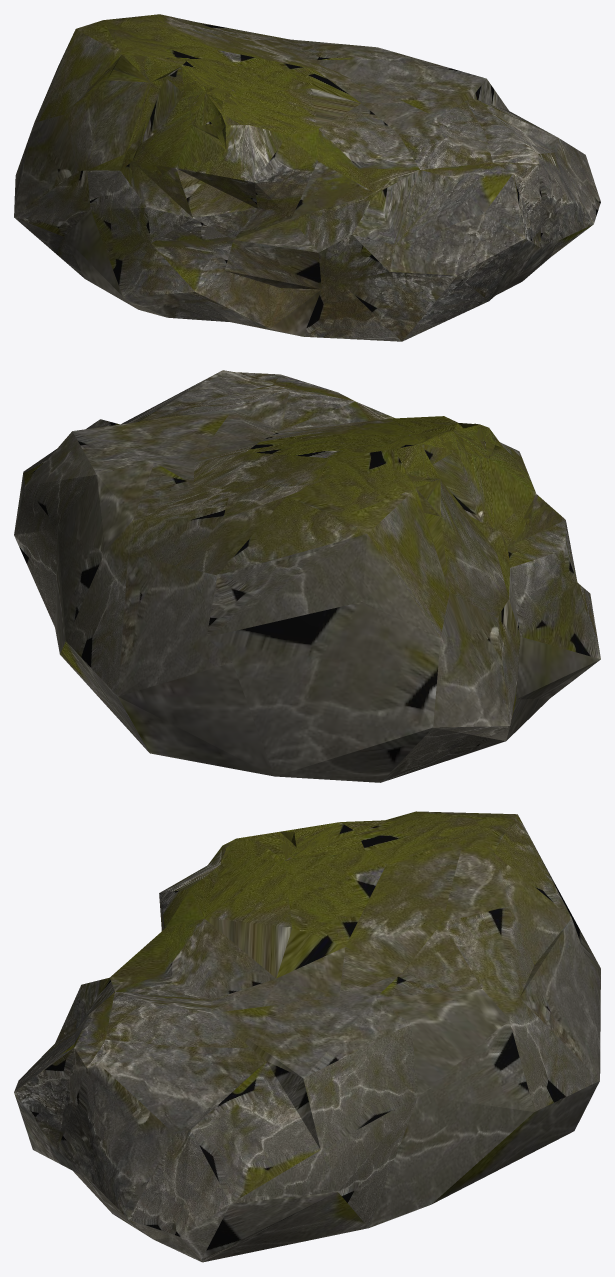
Rendered from fo_moss_boulder_lod1.glb.
3 views of the same model, one above another, from view 1: azimuth 30°, elevation 25°; view 2: azimuth 150°, elevation 25°; view 3: azimuth 270°, elevation 25° (orthographic). The views are drawn at different scales.
Parts seen in each view (by area): view 1: output_unwrapped; view 2: output_unwrapped; view 3: output_unwrapped.
Boxes of the visible parts, bbox=[...] form: output_unwrapped: bbox=[14, 14, 600, 341]; output_unwrapped: bbox=[14, 370, 600, 782]; output_unwrapped: bbox=[14, 811, 600, 1262].
Size of the model in its own units: 1.88 by 0.7792 by 1.67.
Materials: 1 (1 with a texture image).
